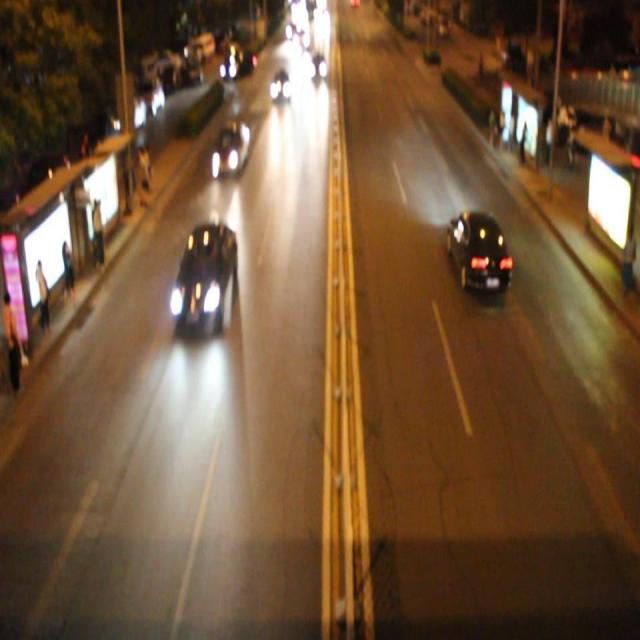car: (171, 220, 238, 332), (445, 209, 510, 299), (211, 123, 250, 178), (269, 71, 292, 107)
